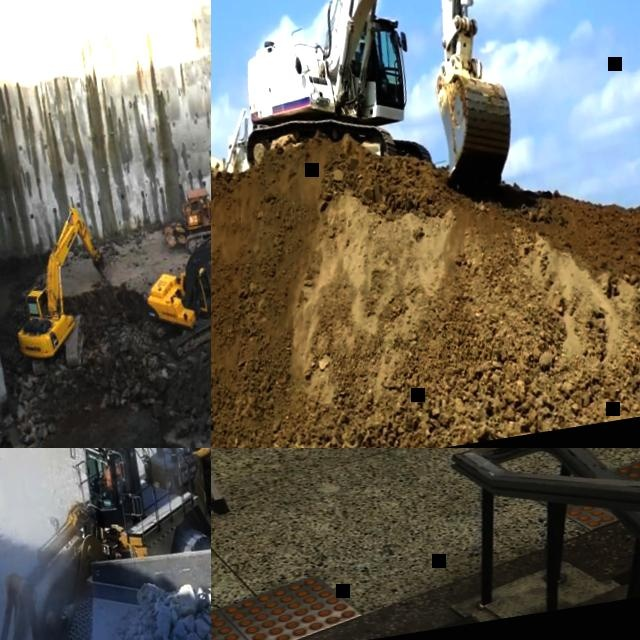Person: (358, 38, 391, 103), (99, 459, 125, 492)
Safety Vest: (102, 463, 124, 490)
machinery: (211, 0, 525, 233), (0, 448, 211, 640), (54, 479, 211, 640), (0, 200, 123, 381), (132, 209, 211, 361), (211, 106, 257, 185), (177, 181, 211, 252)
